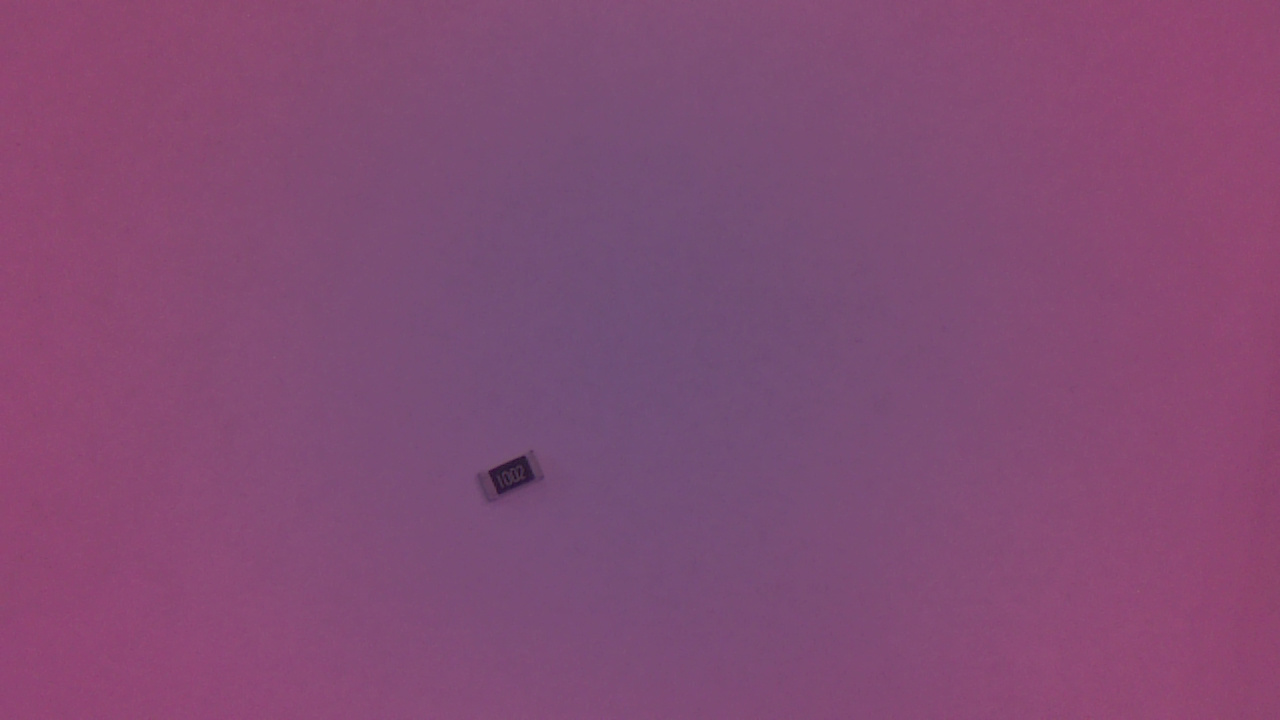Resistor: (476, 451, 557, 510)
